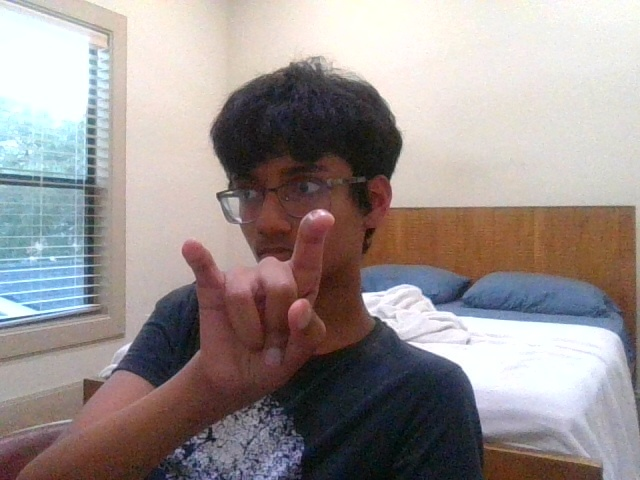ly: (182, 209, 335, 390)
